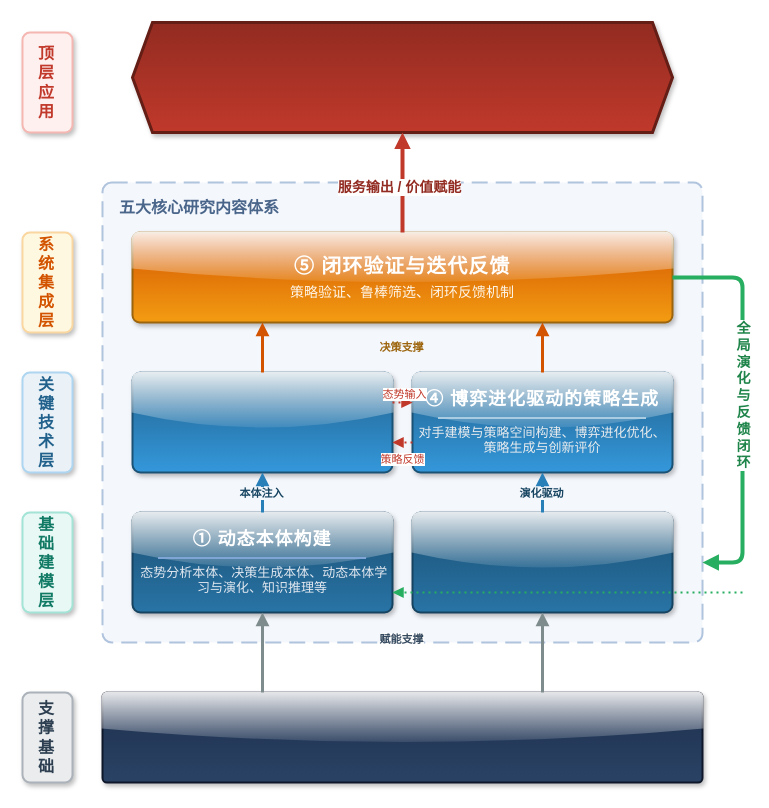
This 769x808 diagram has some shape labels left out. Each missing label, with the centre of its shape:
② 智能体进化试验床 智能体建模、马鞍驾驭工程、进化框架、算法引擎等: the point at 543,563
③ 认知本体驱动的态势分析 因果关联与推理、不确定性与边界自知、可解释性态势生成: the point at 263,423
军事应用场景 威胁预警 ✦ 兵力部署 ✦ 作战规划 ✦ 指挥决策支持: the point at 403,78
底层支撑基础 多源数据与知识底座 | 核心算法与计算引擎 | 平台工程与技术标准: the point at 403,738
